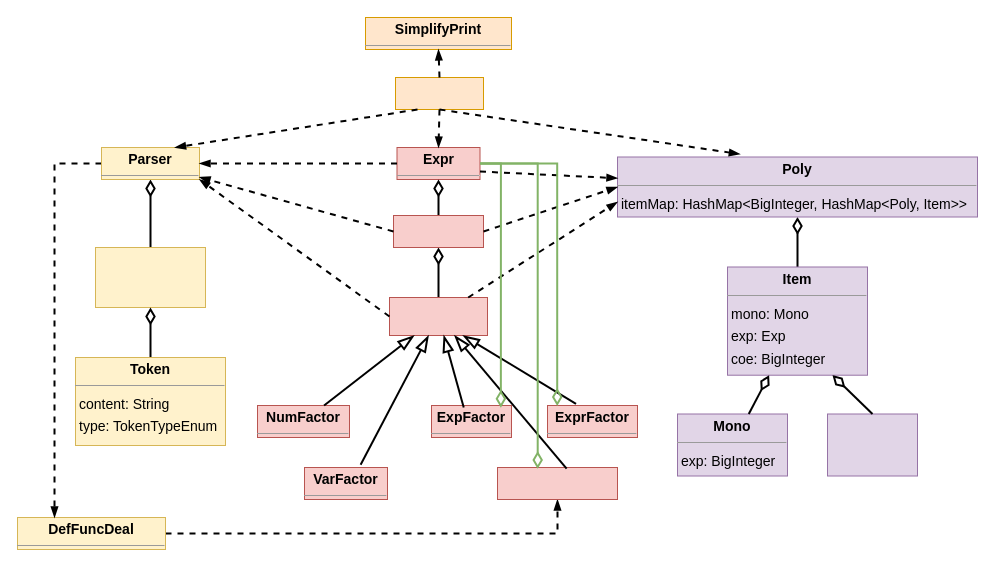
This 995x567 diagram has some shape labels left out. The box of each missing label's shape, as (x1, y1, x2, y2) in pixels:
<<interface>> Factor: (388, 296, 488, 336)
DefFuncFactor: (496, 466, 618, 500)
Exp poly: Poly: (826, 413, 918, 476)
Lexer curToken: Token: (94, 246, 206, 308)
Main: (394, 76, 484, 110)
Term: (392, 214, 484, 248)
